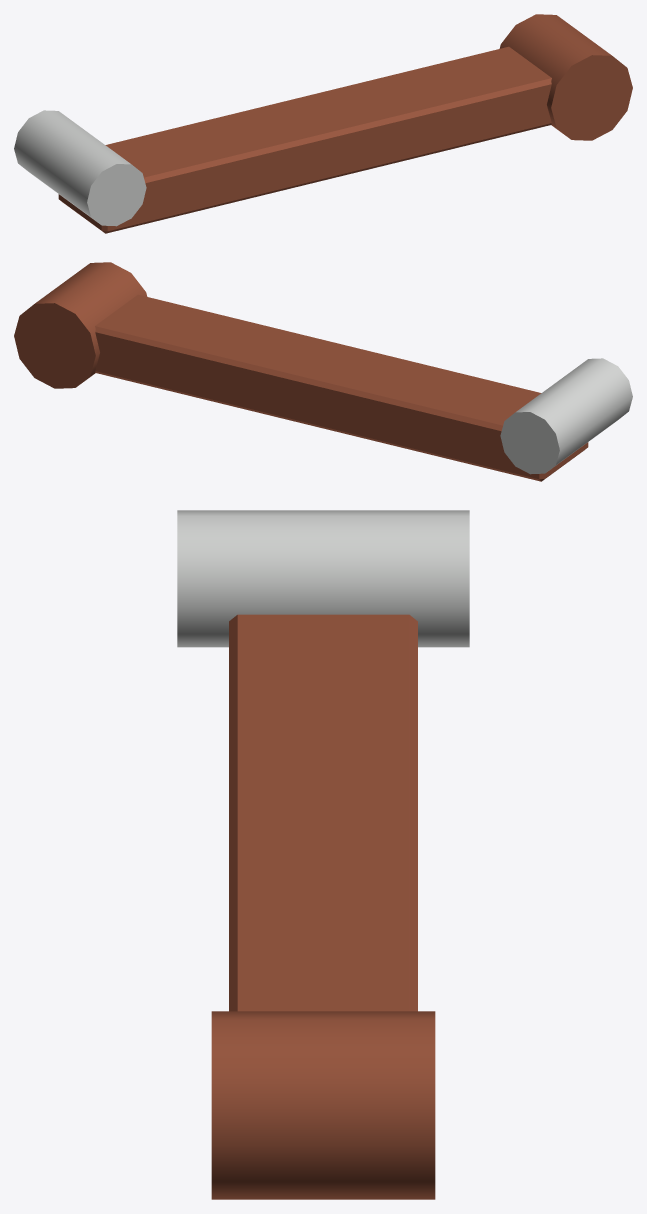
File: open_top_drum_clamp_lever.glb
The picture shows the model from 3 angles, top to bottom: view 1: azimuth 30°, elevation 25°; view 2: azimuth 150°, elevation 25°; view 3: azimuth 270°, elevation 25°; orthographic projection. The views are drawn at different scales.
Visible parts, largest first — view 1: open_top_drum_clamp_lever.001; view 2: open_top_drum_clamp_lever.001; view 3: open_top_drum_clamp_lever.001.
Part boxes in pixels (x1,y1,x2,y2): open_top_drum_clamp_lever.001: (14, 14, 632, 233); open_top_drum_clamp_lever.001: (14, 262, 632, 481); open_top_drum_clamp_lever.001: (177, 510, 469, 1199).
Size of the model in its own units: 0.149 by 0.026 by 0.034.
